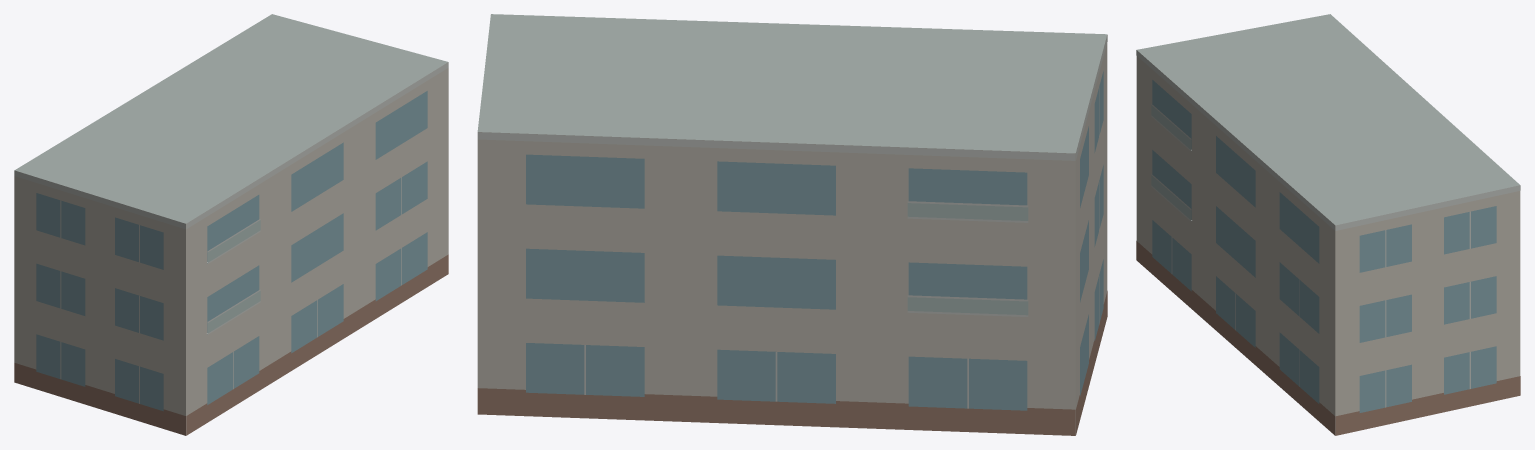
Rendered from survey-upis-32822734.glb.
3 views of the same model, side by side, from view 1: azimuth 30°, elevation 25°; view 2: azimuth 150°, elevation 25°; view 3: azimuth 270°, elevation 25° (orthographic). The views are drawn at different scales.
Parts seen in each view (by area): view 1: survey-upis-32822734.tmp; view 2: survey-upis-32822734.tmp; view 3: survey-upis-32822734.tmp.
Boxes of the visible parts, <box> form: survey-upis-32822734.tmp: <box>14,14,448,435</box>; survey-upis-32822734.tmp: <box>477,14,1107,435</box>; survey-upis-32822734.tmp: <box>1136,14,1520,435</box>.
Size of the model in its own units: 19.73 by 9.15 by 15.14.
